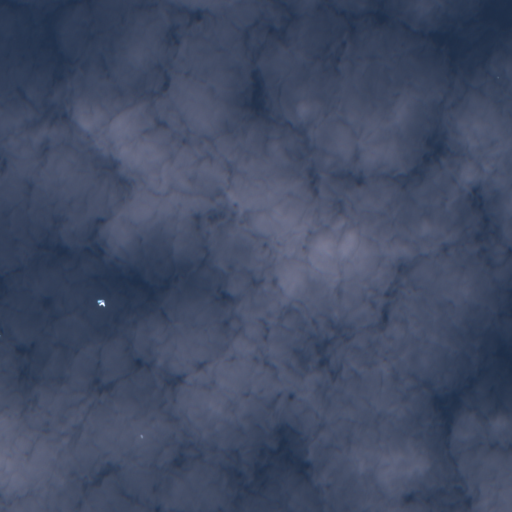Iceberg: (97, 299, 105, 307), (140, 435, 142, 438)
